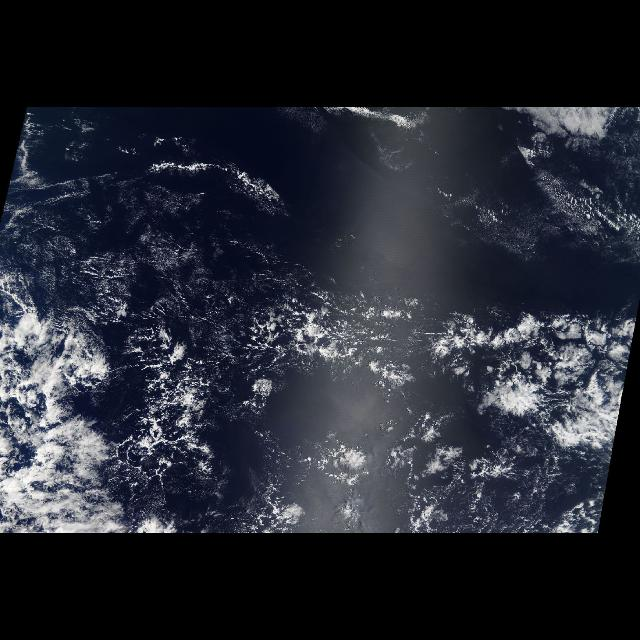Gravel: (248, 282, 638, 452)
Sugar: (12, 174, 254, 286)
